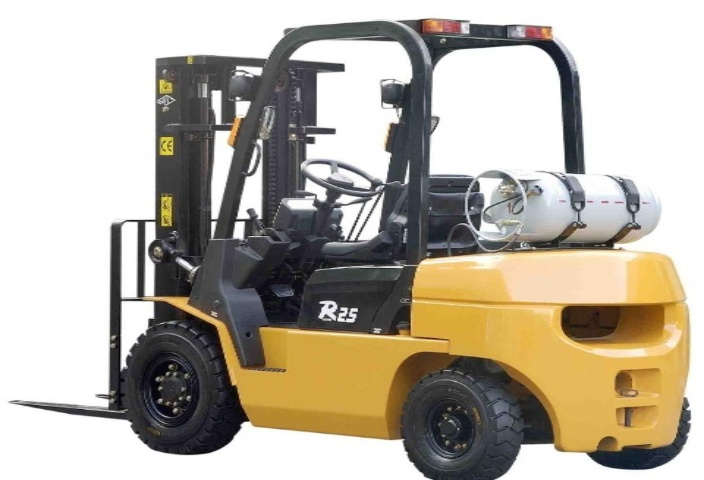industrial: (49, 9, 704, 477)
